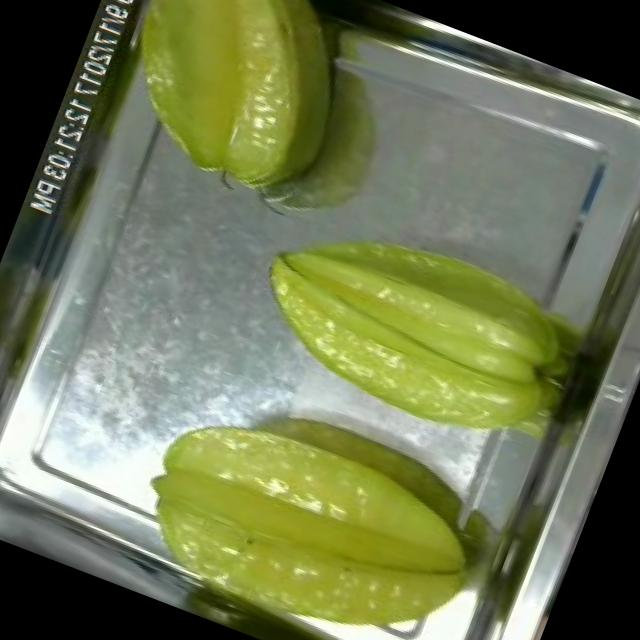fruit: (224, 177, 610, 476), (109, 368, 510, 640), (72, 0, 369, 216)
